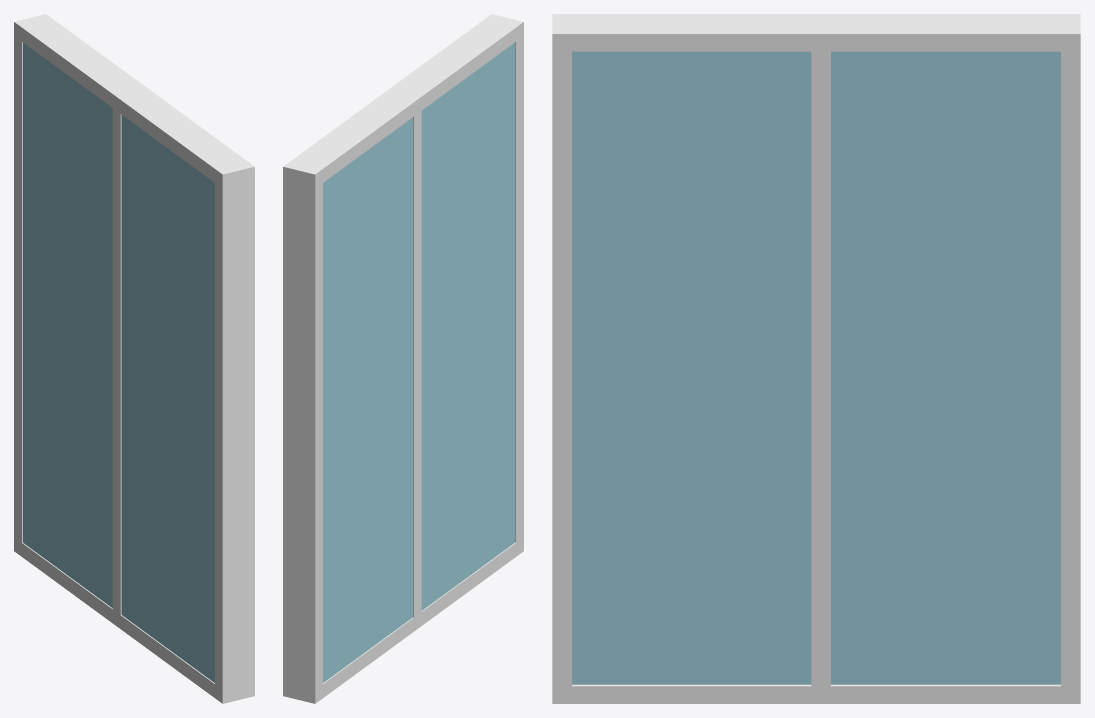
The model's file is Bedroom3_window.fbx.
The picture shows the model from 3 angles, left to right: view 1: azimuth 30°, elevation 25°; view 2: azimuth 150°, elevation 25°; view 3: azimuth 270°, elevation 25°; orthographic projection. The views are drawn at different scales.
Parts seen in each view (by area): view 1: Bedroom3_window; view 2: Bedroom3_window; view 3: Bedroom3_window.
Part boxes in pixels (box(x1,y1,x2,y2)): Bedroom3_window: box(14, 14, 254, 703); Bedroom3_window: box(283, 14, 523, 703); Bedroom3_window: box(552, 14, 1080, 703).
Size of the model in its own units: 13.12 by 207 by 148.
